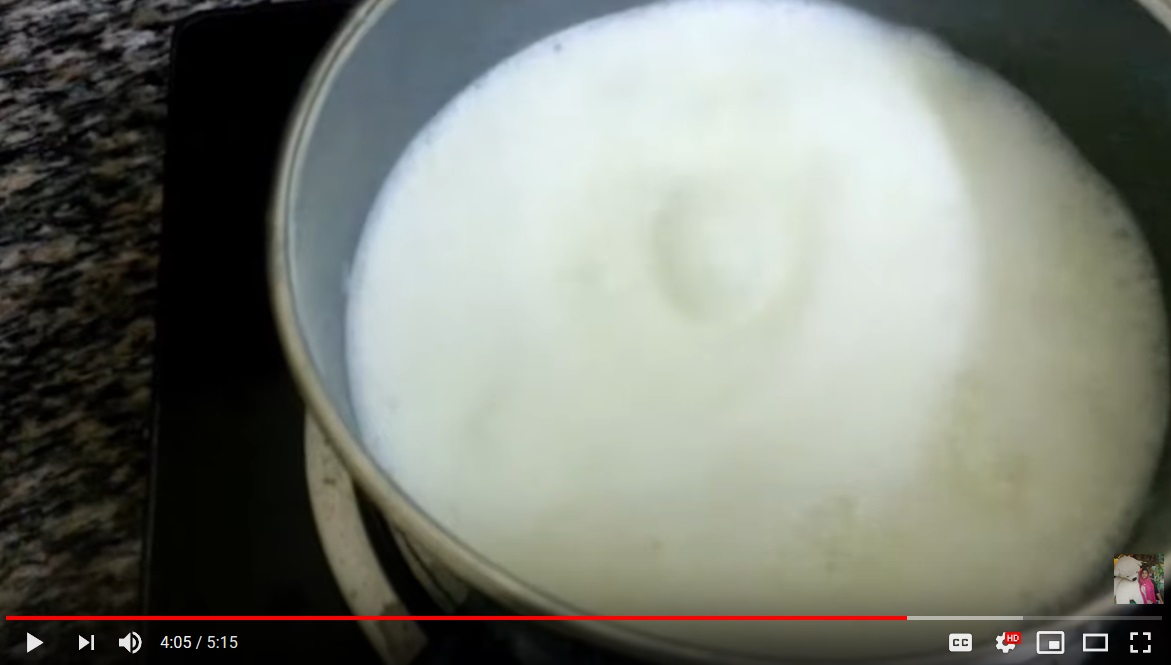Steaming: (311, 15, 1169, 602)
